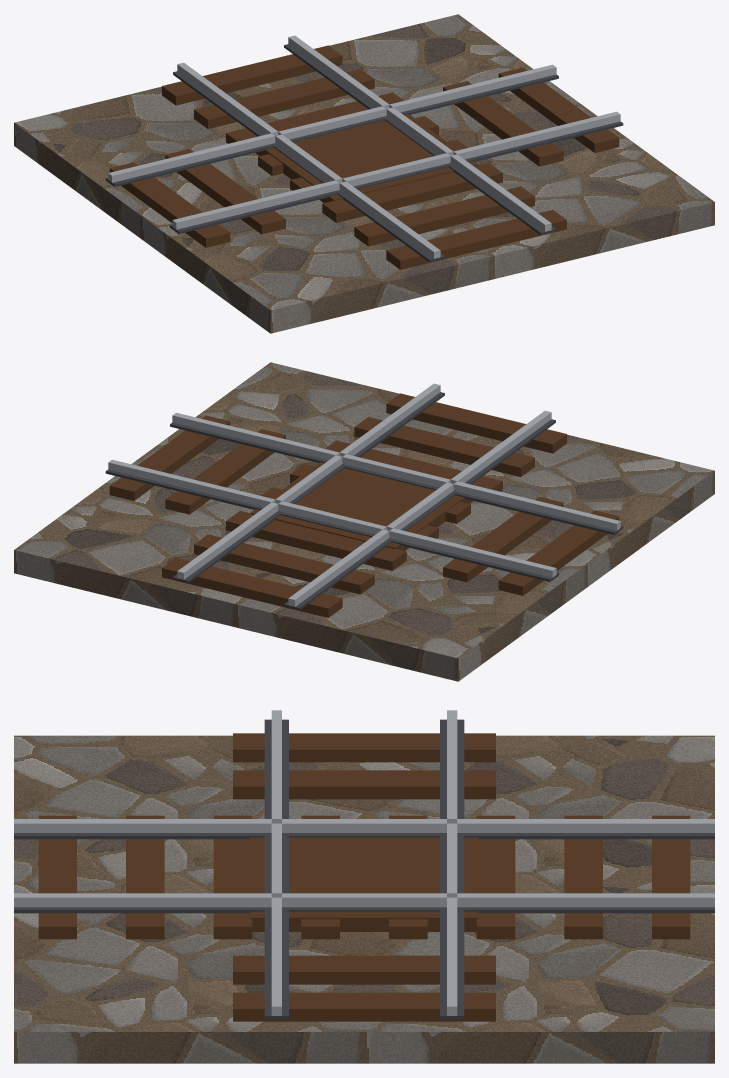
Rendered from mine_floor_rails_cross.glb.
3 views of the same model, one above another, from view 1: azimuth 30°, elevation 25°; view 2: azimuth 150°, elevation 25°; view 3: azimuth 270°, elevation 25° (orthographic). The views are drawn at different scales.
Parts seen in each view (by area): view 1: mine_floor_rails_cross; view 2: mine_floor_rails_cross; view 3: mine_floor_rails_cross.
Boxes of the visible parts, left/top/right/bottom form: mine_floor_rails_cross: left=14, top=14, right=714, bottom=333; mine_floor_rails_cross: left=14, top=362, right=714, bottom=681; mine_floor_rails_cross: left=14, top=710, right=714, bottom=1063.
Size of what is drawn, in the model's own units: 4 by 0.36 by 4.
Materials: 4 (1 with a texture image).
